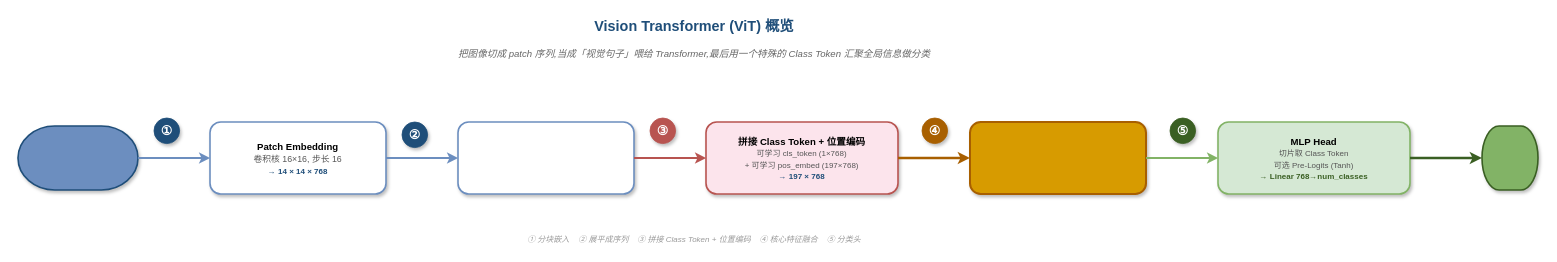
Image size: 1557x262. Some labels were removed from this diagram. Here are the shapes that lost their labels. From the top down, the centre of each, then its label:
At pixel 78 159: "输入图像 224 × 224 × 3".
At pixel 546 159: "展平为 token 序列 空间维度展平 + 转置 → 196 × 768".
At pixel 1058 158: "Transformer Encoder 堆叠 L 层 (Pre-LN) Multi-Head Self-Attention + MLP".
At pixel 1510 159: "分类 logits num_classes 维".
